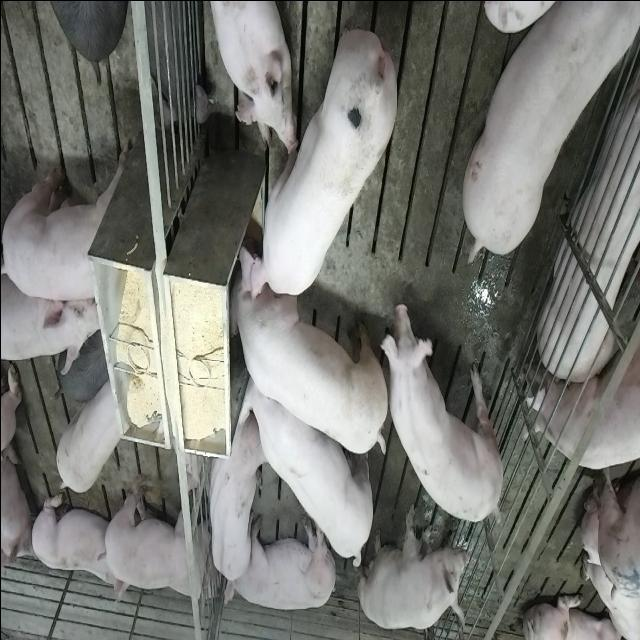Feeding: (240, 21, 399, 302), (219, 252, 384, 460)
Lateral_lying: (540, 28, 640, 385), (222, 513, 338, 615)
Sitting: (356, 504, 469, 632)
Standing: (457, 4, 636, 266), (242, 356, 378, 569), (382, 299, 507, 526), (2, 143, 127, 301), (100, 466, 220, 598), (522, 338, 640, 470), (3, 261, 106, 373), (52, 378, 126, 492)
Sternal_lying: (206, 0, 294, 150), (28, 488, 118, 607), (203, 410, 263, 585)
